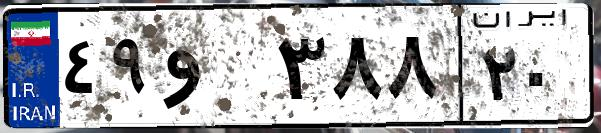0: (525, 38, 570, 115)
2: (475, 38, 525, 113)
3: (270, 28, 330, 110)
4: (57, 26, 110, 100)
8: (385, 28, 445, 110), (330, 28, 385, 110)
9: (110, 28, 158, 98)
و: (158, 20, 270, 120)
